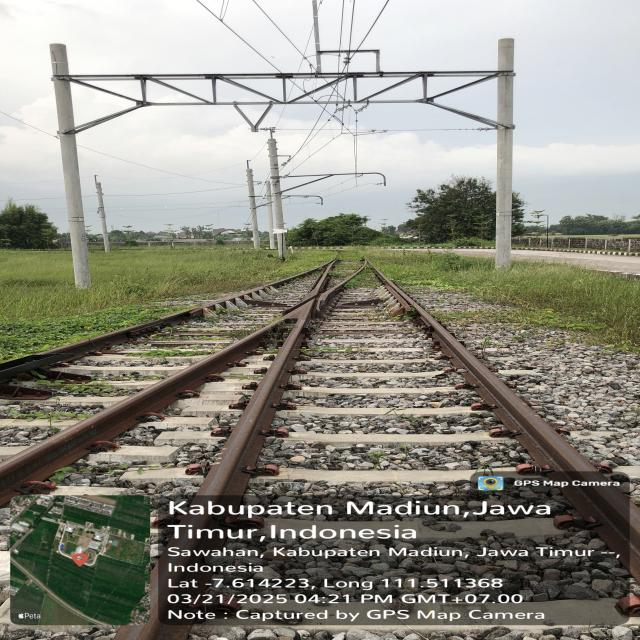rail-detection: (0, 261, 347, 505), (371, 267, 638, 564), (0, 301, 224, 381)
